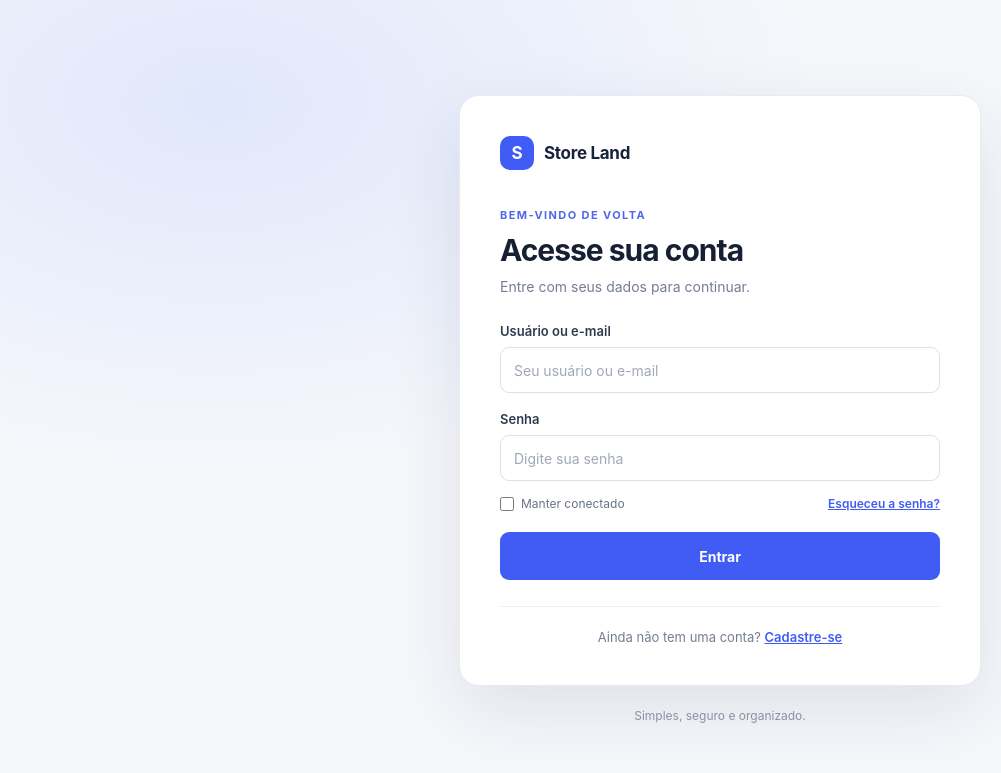
does not submit sign-up when passwords do not match
Click the link "Cadastre-se". click: point(803, 637)
box: [764,629,842,645]
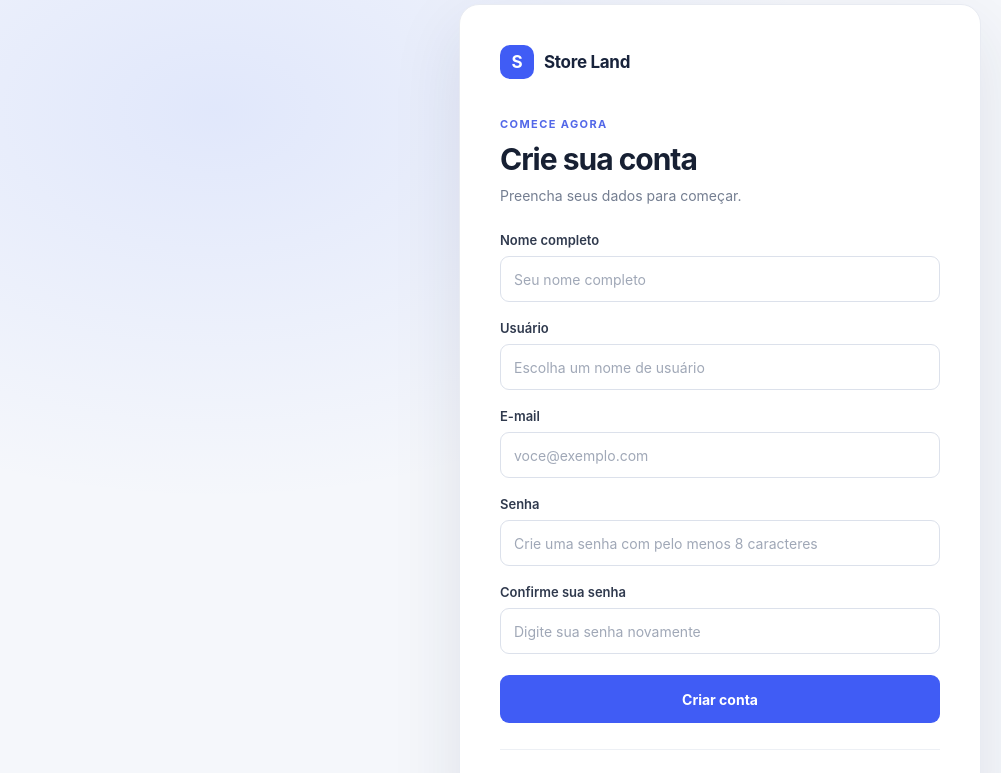
Type "Mika Example" into the field labelled "Nome completo". click: point(720, 279)
box: [500,256,940,302]
Type "mika" into the field labelled "Usuário". click: point(720, 367)
box: [500,344,940,390]
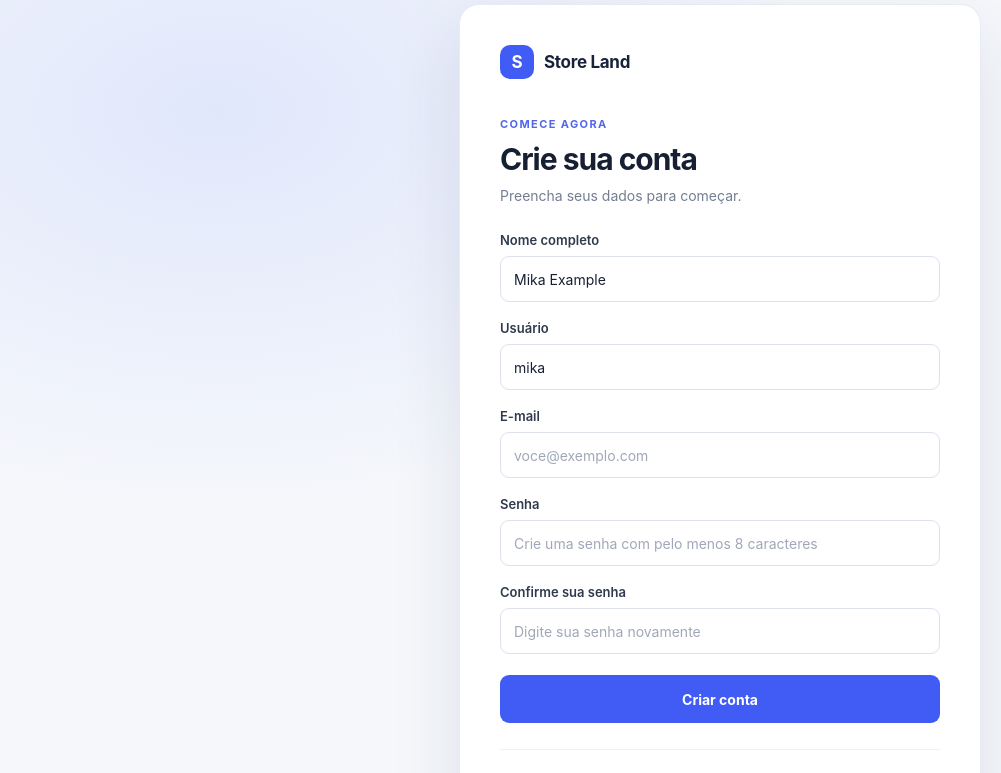
Type "mika@example.com" into the field labelled "E-mail". click: point(720, 455)
box: [500,432,940,478]
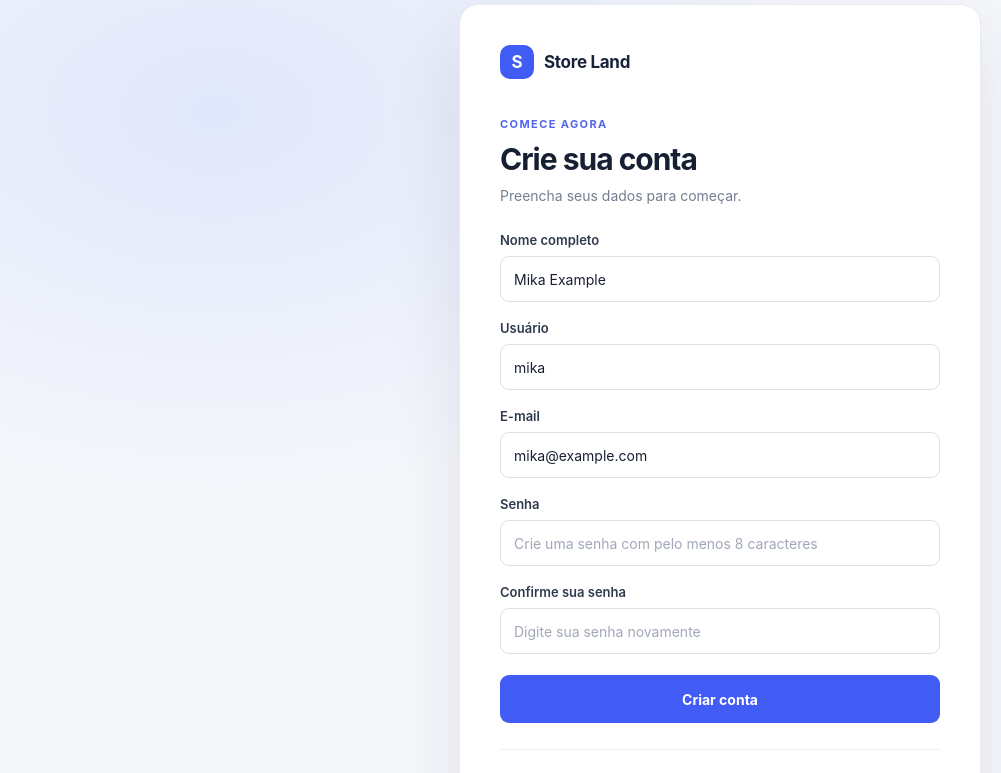
Type "password1" into the password field labelled "Senha". click: point(720, 543)
box: [500,520,940,566]
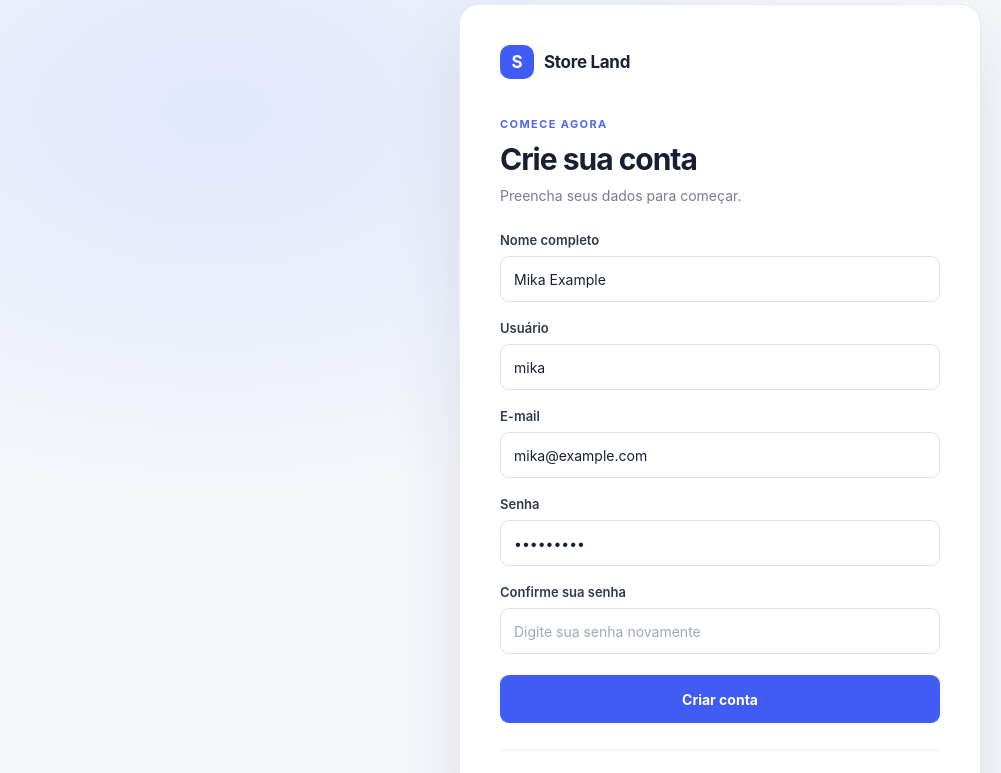
Type "password2" into the password field labelled "Confirme sua senha". click: point(720, 631)
box: [500,608,940,654]
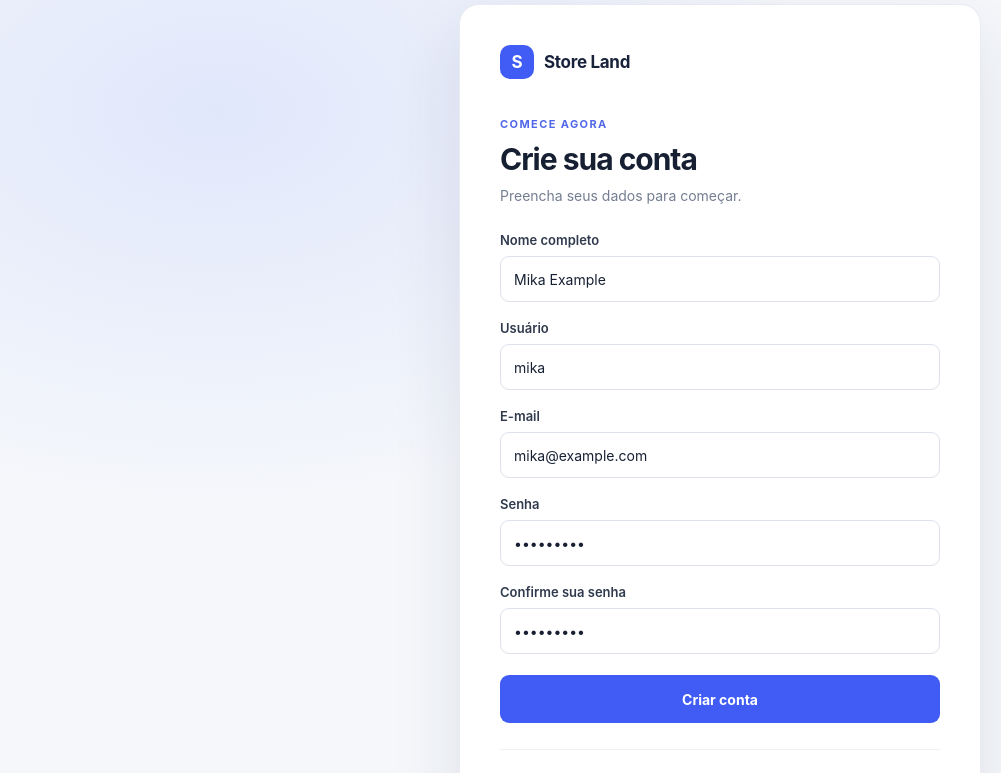
Click the button "Criar conta". click: point(720, 699)
box: [500,675,940,723]
(page scrolled)
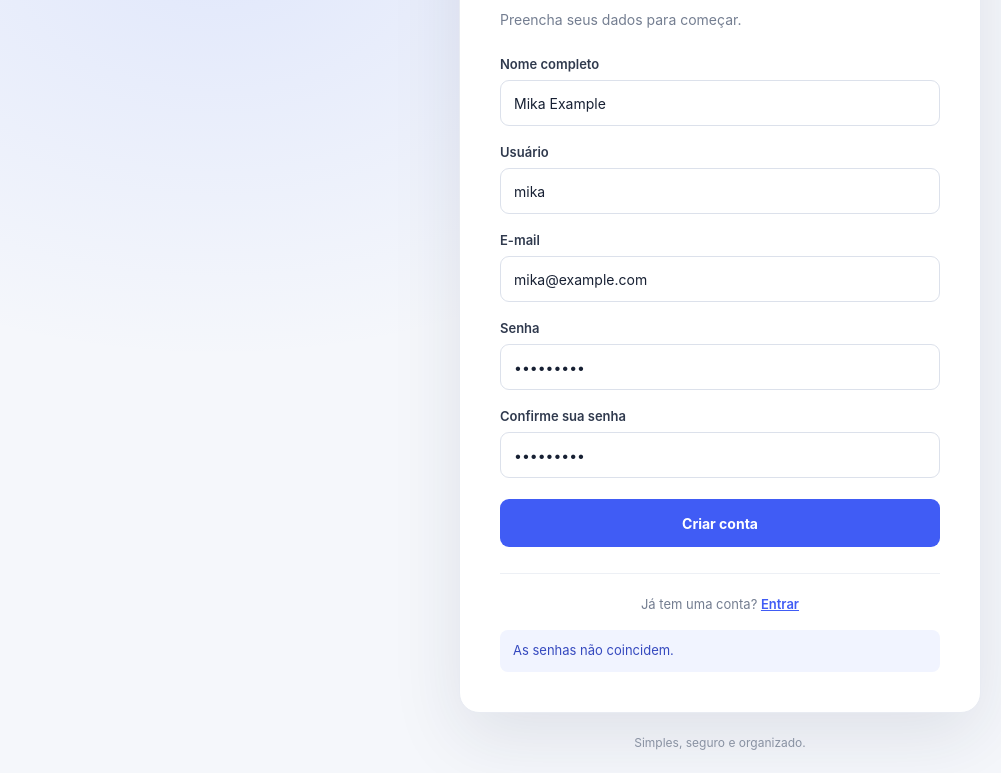
Expected: the message reads "As senhas não coincidem.", [513,642,674,658]
